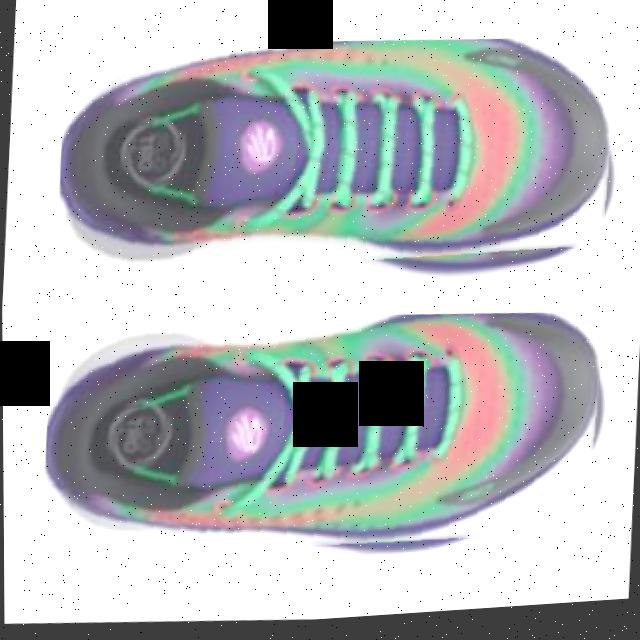shoe: (39, 291, 608, 590), (54, 16, 623, 311)
